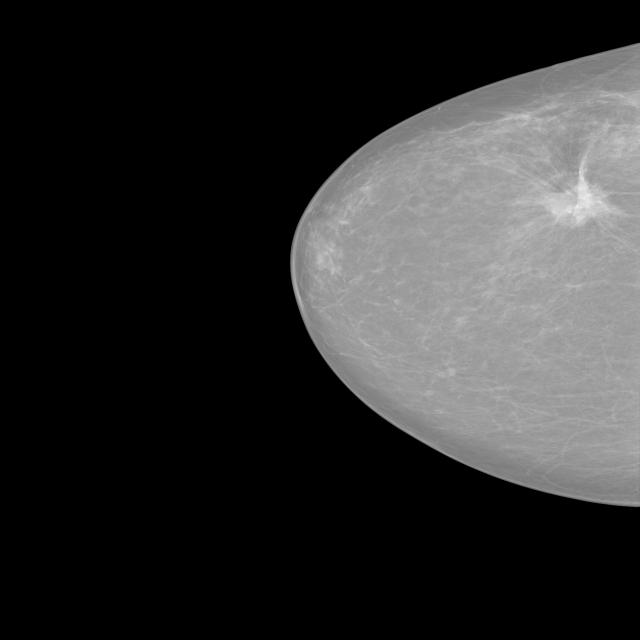Mass_1: (506, 153, 640, 251)
